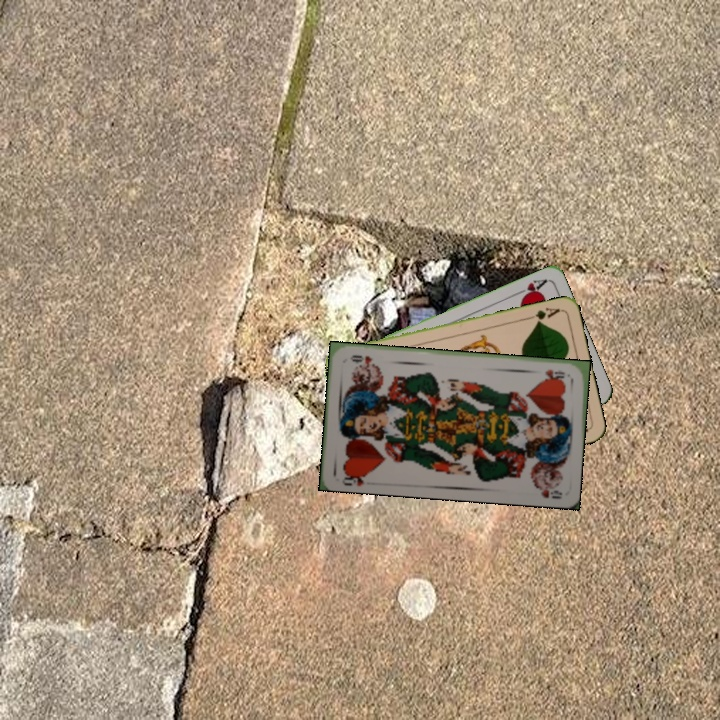GA: (523, 303, 562, 326)
HA: (511, 275, 549, 302)
HO: (338, 467, 373, 488), (540, 365, 567, 382)
